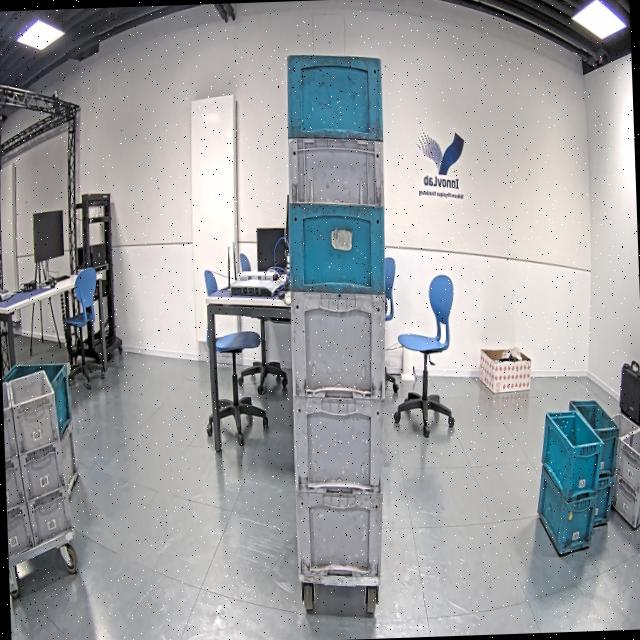Box4G: (285, 285, 387, 401), (291, 391, 388, 494), (291, 483, 390, 580)
Box8G: (284, 132, 386, 215), (610, 470, 640, 527), (616, 426, 640, 492)
BoxB8: (284, 200, 388, 292), (281, 47, 384, 138), (535, 467, 598, 557), (542, 411, 602, 497), (568, 396, 620, 476)
